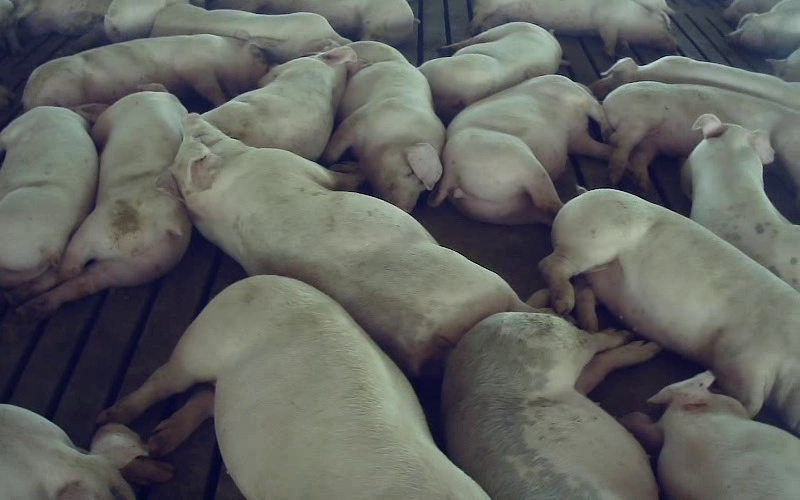pig: (172, 116, 549, 372), (100, 277, 486, 499), (11, 83, 190, 317), (442, 312, 659, 499), (429, 75, 609, 223), (620, 371, 799, 499), (603, 81, 799, 196), (322, 41, 444, 211), (682, 114, 799, 290), (24, 32, 274, 109), (0, 104, 104, 287), (202, 46, 356, 159), (419, 22, 561, 122), (151, 3, 348, 62), (472, 0, 676, 56), (590, 56, 799, 109)
